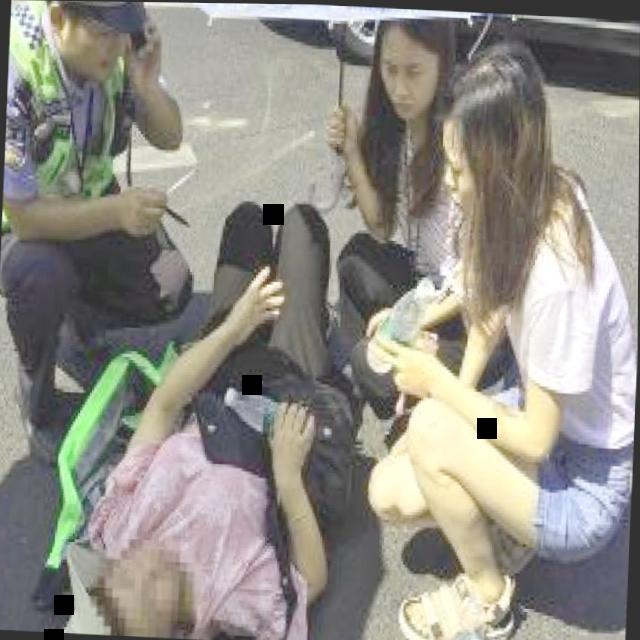Fall-Detected: (73, 160, 395, 640)
